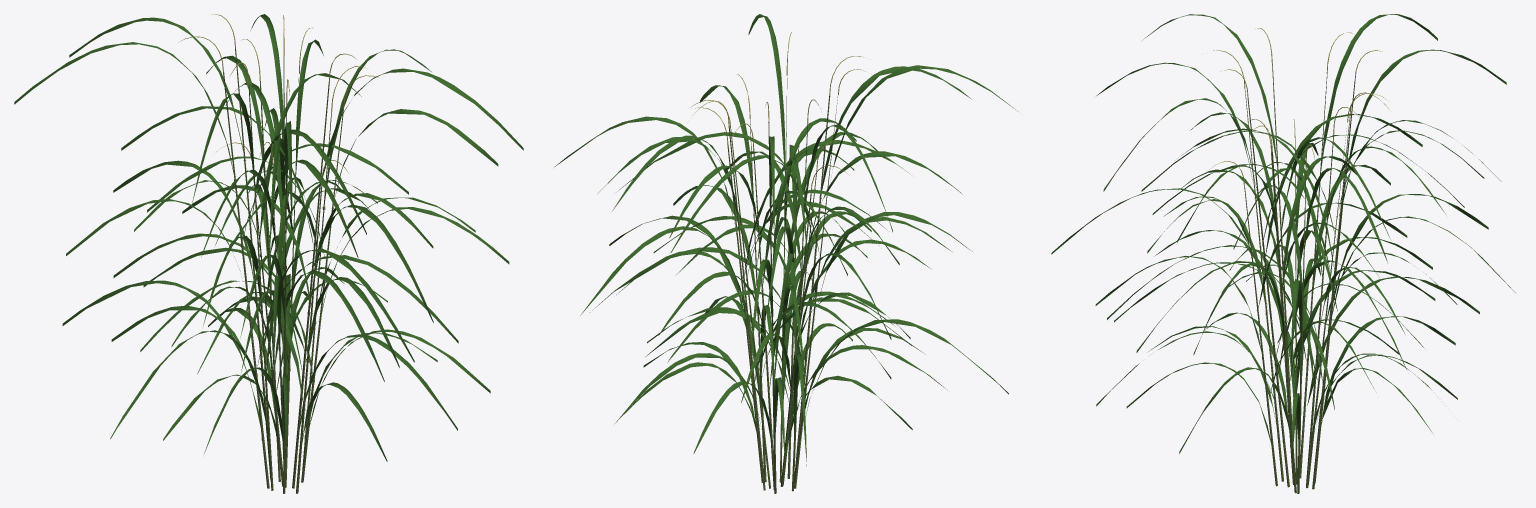
Rendered from rice-4-lite.glb.
3 renders of one model, left to right at view 1: azimuth 30°, elevation 25°; view 2: azimuth 150°, elevation 25°; view 3: azimuth 270°, elevation 25°, orthographic. The views are drawn at different scales.
Parts seen in each view (by area): view 1: grass-leaf, stem, rachis; view 2: grass-leaf, stem, rachis; view 3: grass-leaf, stem, rachis.
Part boxes in pixels (box(x1,y1,x2,y2)): grass-leaf: box(14, 14, 523, 463); stem: box(223, 49, 343, 493); rachis: box(178, 14, 379, 176); grass-leaf: box(555, 14, 1018, 466); stem: box(727, 78, 837, 493); rachis: box(690, 32, 864, 194); grass-leaf: box(1051, 14, 1515, 465); stem: box(1244, 62, 1355, 493); rachis: box(1209, 28, 1389, 186).
Size of what is drawn, in the model's own units: 1.07 by 1.13 by 1.13.
Materials: 3 (2 with a texture image).
